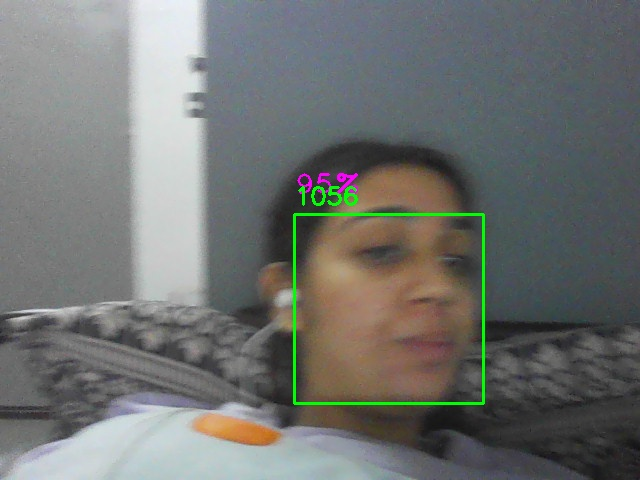real: (294, 214, 484, 404)
